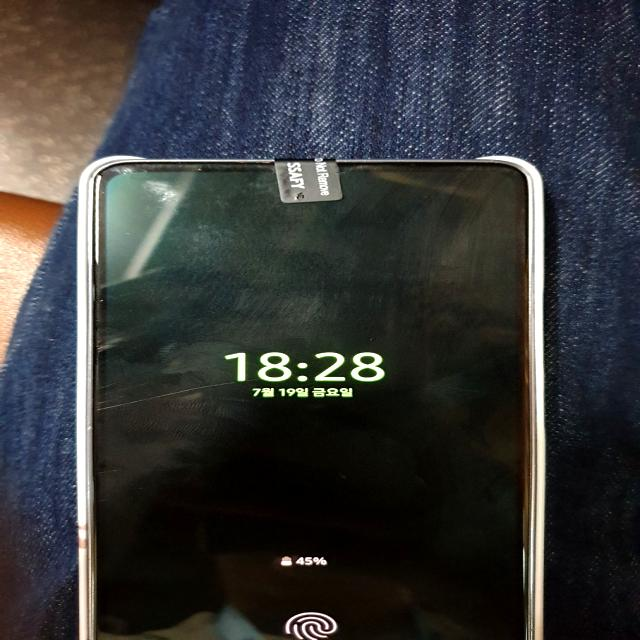phone: (78, 151, 550, 640)
sticker: (272, 156, 348, 206)
